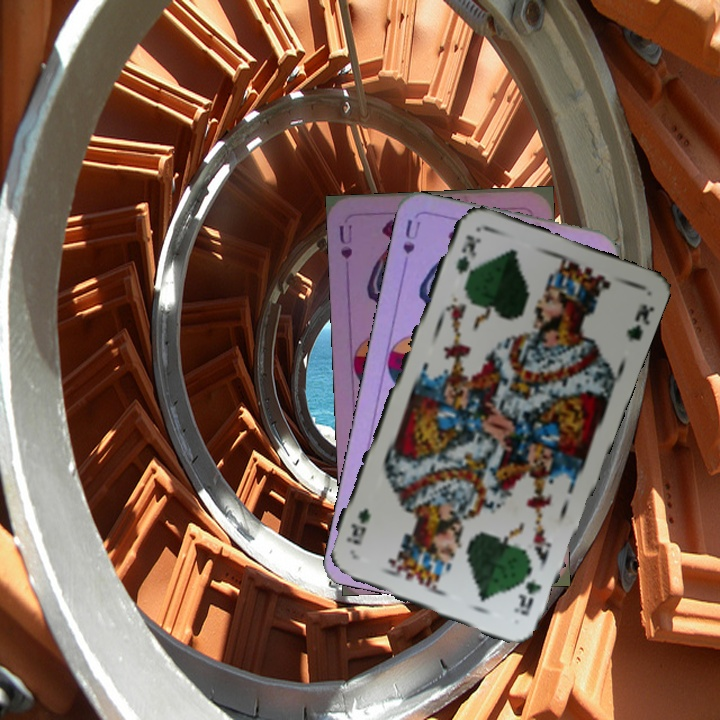GK: (451, 230, 483, 277), (510, 574, 544, 618)
SU: (398, 215, 423, 274), (335, 220, 355, 262)
